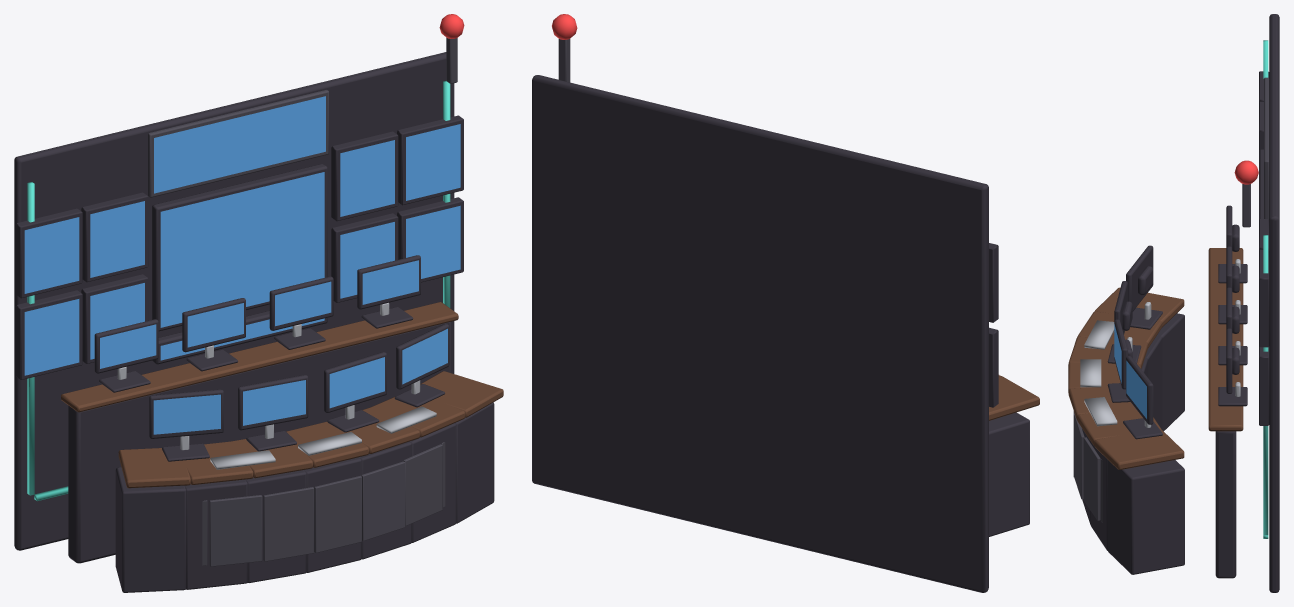
Rendered from noc_l3.glb.
3 renders of one model, left to right at view 1: azimuth 30°, elevation 25°; view 2: azimuth 150°, elevation 25°; view 3: azimuth 270°, elevation 25°, orthographic. The views are drawn at different scales.
Parts seen in each view (by area): view 1: noc_l3, noc_wall0_screen, noc_sign_screen, noc_wall4_screen, noc_wall2_screen, noc_wall1_screen, noc_wall5_screen, noc_wall6_screen, noc_wall8_screen, noc_wall7_screen, noc_desk0_screen, noc_wall3_screen (+8 smaller); view 2: noc_l3; view 3: noc_l3, noc_desk3_screen, noc_beacon_led.
Boxes of the visible parts, x1,y1,x2,y2 form: noc_l3: (14, 37, 503, 592); noc_wall0_screen: (160, 172, 324, 327); noc_sign_screen: (154, 96, 325, 193); noc_wall4_screen: (24, 299, 79, 375); noc_wall2_screen: (24, 217, 79, 293); noc_wall1_screen: (90, 201, 144, 277); noc_wall5_screen: (340, 140, 394, 216); noc_wall6_screen: (406, 124, 460, 200); noc_wall8_screen: (406, 205, 460, 278); noc_wall7_screen: (340, 222, 394, 298); noc_desk0_screen: (153, 394, 220, 434); noc_wall3_screen: (90, 283, 144, 359); noc_l3: (532, 39, 1039, 592); noc_l3: (1068, 14, 1279, 592); noc_desk3_screen: (1126, 360, 1146, 418); noc_beacon_led: (1234, 160, 1258, 184).
Bounding box in the file's own units: 2.84 × 2.71 × 1.22.
